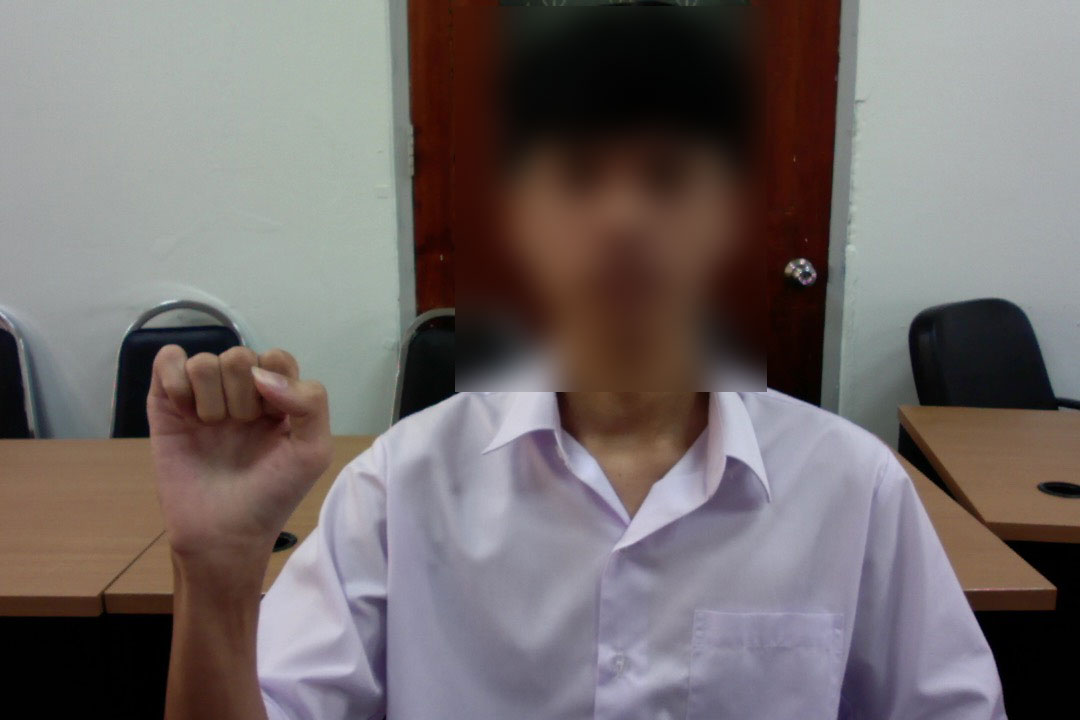sor: (134, 332, 340, 593)
